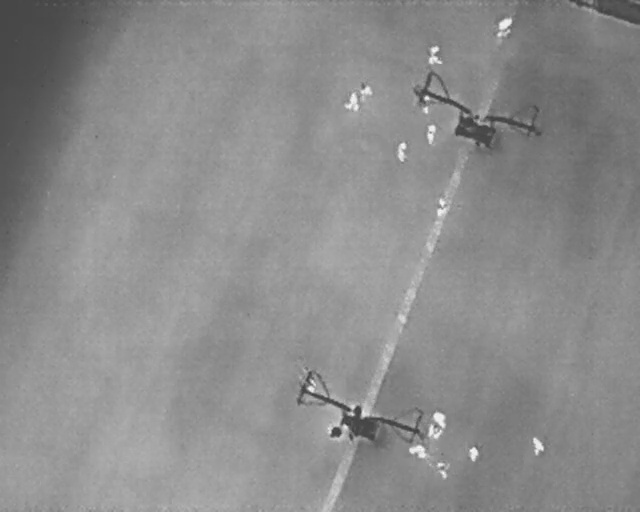Person: (429, 407, 452, 431), (495, 14, 514, 39), (407, 443, 427, 459), (344, 91, 359, 112), (395, 140, 409, 162), (429, 44, 442, 66), (531, 435, 545, 455), (424, 124, 437, 145), (434, 463, 449, 481), (359, 84, 373, 103), (304, 377, 317, 395), (436, 197, 448, 216), (428, 424, 442, 439), (468, 444, 479, 463), (421, 94, 430, 115)
